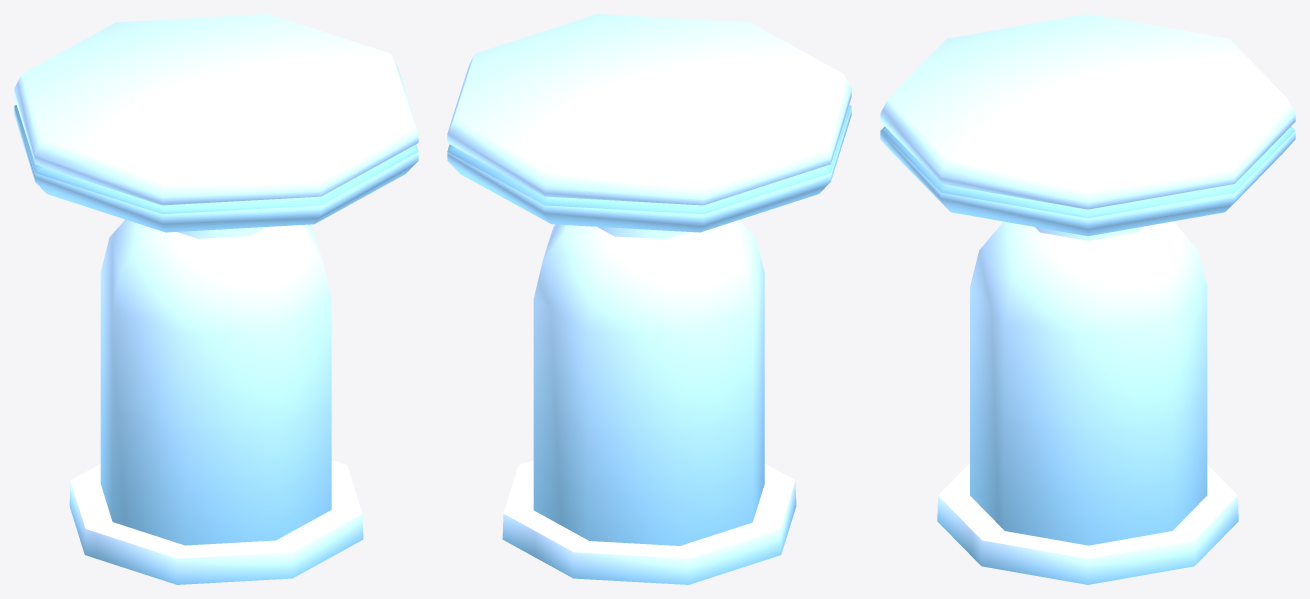
The model's file is steel_grip_036.glb.
3 renders of one model, left to right at view 1: azimuth 30°, elevation 25°; view 2: azimuth 150°, elevation 25°; view 3: azimuth 270°, elevation 25°, orthographic.
Parts seen in each view (by area): view 1: steel_grip_036; view 2: steel_grip_036; view 3: steel_grip_036.
Part boxes in pixels (<box>): steel_grip_036: <box>14,14,418,584</box>; steel_grip_036: <box>447,14,851,584</box>; steel_grip_036: <box>880,14,1295,584</box>.
Bounding box in the file's own units: 2.94 × 3.31 × 2.94.
1 material, 1 textured.
